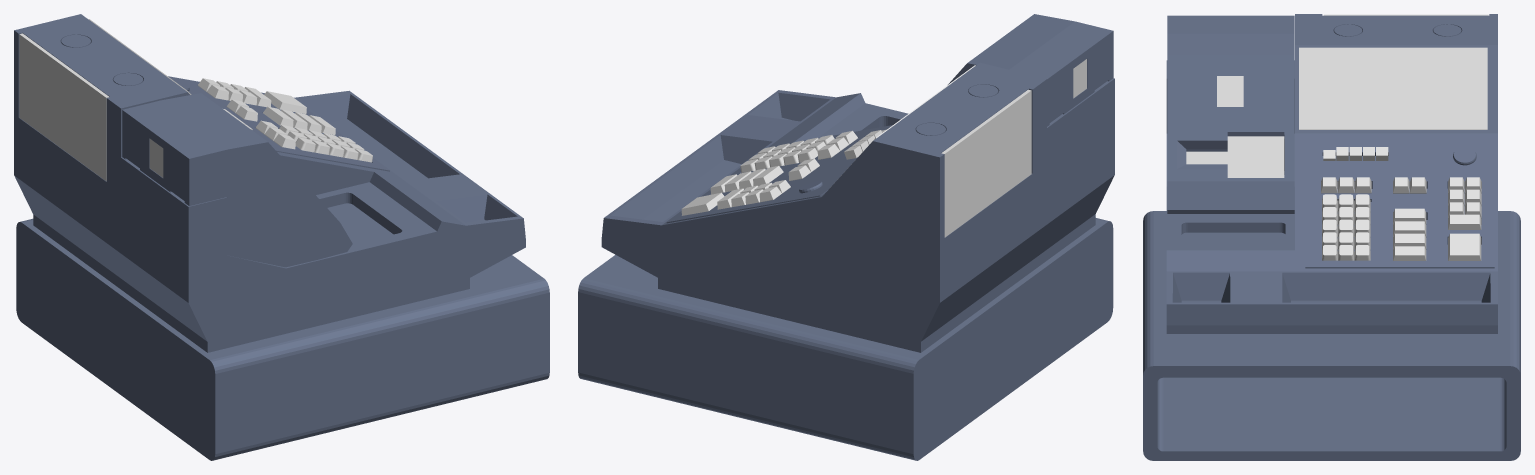
Rendered from cashregister.fbx.
3 renders of one model, left to right at view 1: azimuth 30°, elevation 25°; view 2: azimuth 150°, elevation 25°; view 3: azimuth 270°, elevation 25°, orthographic. The views are drawn at different scales.
Parts seen in each view (by area): view 1: tillbody, base, receiptprinter, operationbuttons, calcbuttons, custombuttons, receiptbuttons; view 2: tillbody, base, receiptprinter, operationbuttons, calcbuttons, custombuttons, receiptbuttons; view 3: tillbody, base, receiptprinter, calcbuttons, operationbuttons, custombuttons, modebuttons, receiptbuttons, percentbuttons.
Part boxes in pixels (x1,y1,x2,y2): tillbody: (14, 14, 525, 352); base: (16, 218, 549, 460); receiptprinter: (122, 93, 352, 267); operationbuttons: (197, 78, 306, 113); calcbuttons: (279, 124, 372, 162); custombuttons: (263, 106, 335, 134); receiptbuttons: (255, 120, 295, 149); tillbody: (601, 62, 1114, 352); base: (578, 218, 1113, 460); receiptprinter: (948, 14, 1113, 126); operationbuttons: (681, 180, 790, 215); calcbuttons: (740, 135, 834, 172); custombuttons: (710, 165, 783, 194); receiptbuttons: (817, 130, 857, 159); tillbody: (1166, 14, 1497, 333); base: (1143, 211, 1520, 460); receiptprinter: (1167, 15, 1294, 213); calcbuttons: (1322, 194, 1370, 260); operationbuttons: (1448, 177, 1481, 260); custombuttons: (1393, 208, 1426, 260); modebuttons: (1323, 147, 1388, 160); receiptbuttons: (1321, 177, 1371, 193); percentbuttons: (1393, 177, 1426, 193).
Bounding box in the file's own units: 261 × 215 × 258.
